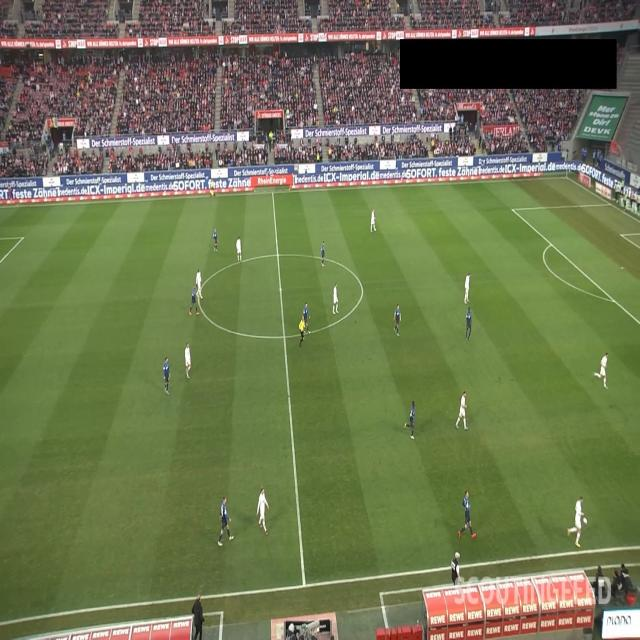ball: (582, 517, 588, 526)
